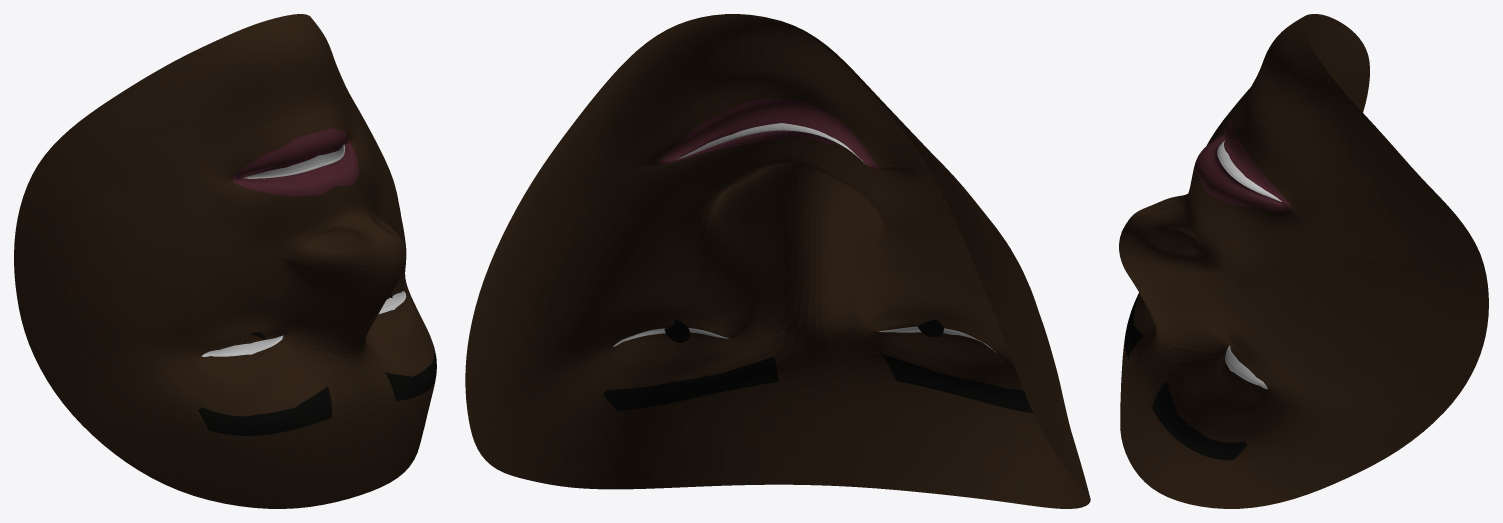
File: frame_00223.obj
3 views of the same model, side by side, from view 1: azimuth 30°, elevation 25°; view 2: azimuth 150°, elevation 25°; view 3: azimuth 270°, elevation 25° (orthographic). The views are drawn at different scales.
Parts seen in each view (by area): view 1: face_mesh_subdivided; view 2: face_mesh_subdivided; view 3: face_mesh_subdivided.
Part boxes in pixels (x1,y1,x2,y2): face_mesh_subdivided: (14,14,436,508); face_mesh_subdivided: (465,14,1090,508); face_mesh_subdivided: (1119,14,1488,508).
Bounding box in the file's own units: 0.5034 × 0.5303 × 0.4166.
